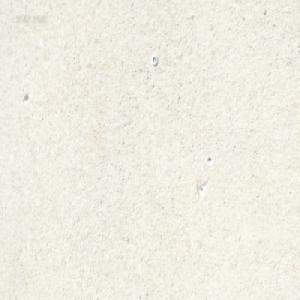Washer: (151, 54, 157, 66)
